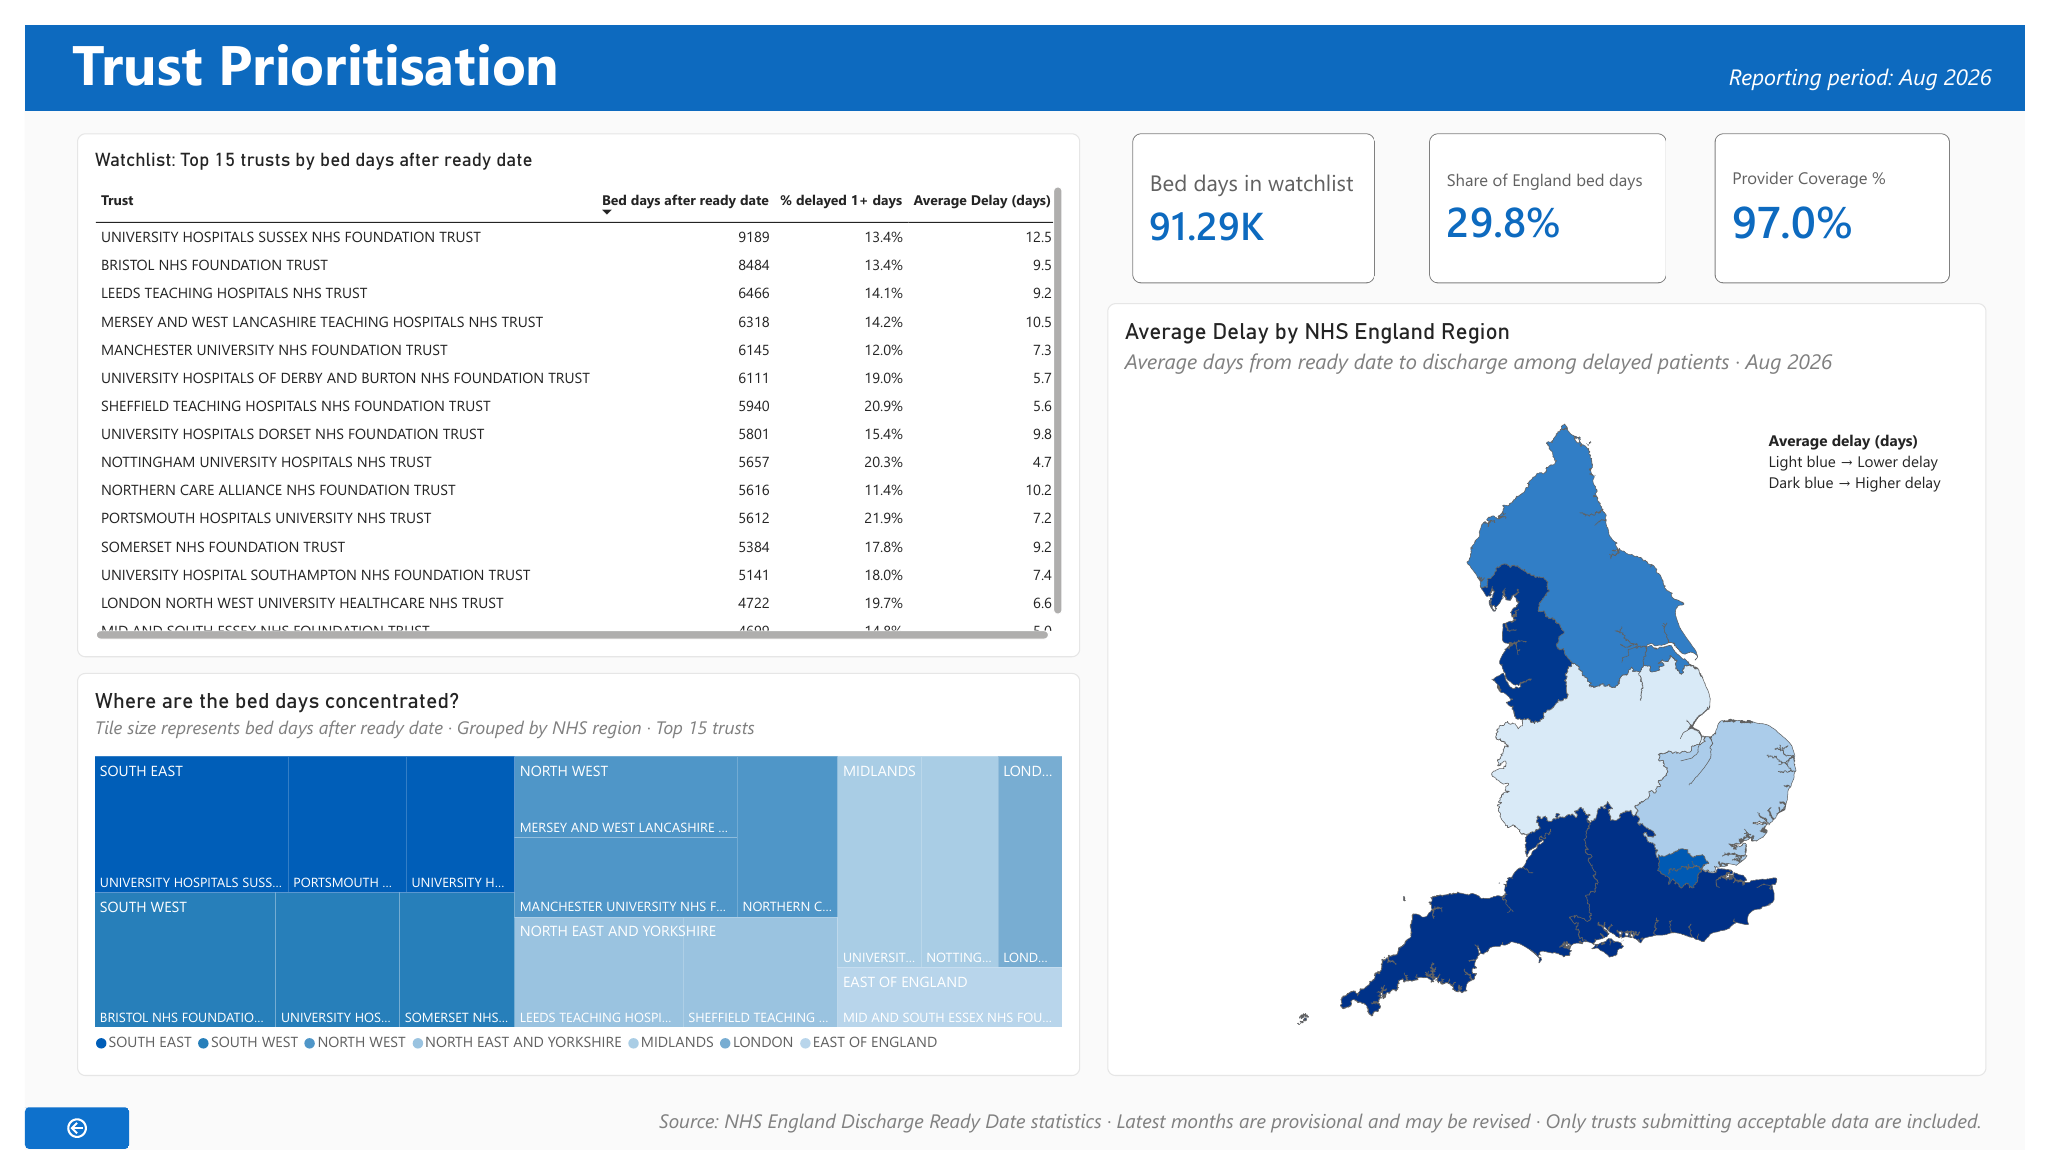

What the dashboard file says about the page in this screenshot:
{"tool":"powerbi","page":{"name":"Page 2","canvas":[1920,1080],"ordinal":1},"visuals":[{"type":"textbox","box":[0,0,1920,82.5],"z":0},{"type":"tableEx","title":"Watchlist: Top 15 trusts by bed days after ready date","fields":{"Values":["NHS Data.Organisation Name","Calendar.Trust Bed Days","Calendar.Trust % Delayed","Calendar.Trust Average Delay Days"]},"box":[50,104.3,963,502.2],"z":1000},{"type":"actionButton","box":[0,1039.1,100,40],"z":2000},{"type":"treemap","title":"Where are the bed days concentrated?","fields":{"Details":["NHS Data.Organisation Name"],"Group":["NHS Data.Region (of Provider)"],"Values":["Calendar.Trust Bed Days"]},"box":[50,621.7,963,387],"z":3000},{"type":"shapeMap","title":"Average Delay by NHS England Region","fields":{"Category":["NHS Data.Organisation Name"],"Value":["Calendar.Regional Avg Delay Days"]},"box":[1039.1,267.4,843.5,741.3],"z":4000},{"type":"textbox","box":[1434.8,17.4,419.6,65.2],"z":5000},{"type":"textbox","box":[1673.9,389.1,173.9,150],"z":6000},{"type":"textbox","box":[158.7,1039.1,1760.9,39.1],"z":7000},{"type":"cardVisual","fields":{"Data":["Calendar.Watchlist Bed Days"]},"box":[1063,104.3,232.6,143.5],"z":8000},{"type":"cardVisual","fields":{"Data":["Calendar.Watchlist Share of England"]},"box":[1347.8,104.3,228.3,143.5],"z":9000},{"type":"cardVisual","fields":{"Data":["Calendar.Provider Coverage %"]},"box":[1621.7,104.3,226.1,143.5],"z":10000}]}

Visuals, with their boxes in screenshot pixels (x1, y1, x2, y2), scaled from the page's 1920x1080 canvas onto the 2050x1175 screenshot:
textbox: pyautogui.locateOnScreen(0, 0, 2049, 90)
"Watchlist: Top 15 trusts by bed days after ready date" tableEx: pyautogui.locateOnScreen(53, 113, 1082, 660)
actionButton: pyautogui.locateOnScreen(0, 1131, 107, 1174)
"Where are the bed days concentrated?" treemap: pyautogui.locateOnScreen(53, 676, 1082, 1097)
"Average Delay by NHS England Region" shapeMap: pyautogui.locateOnScreen(1109, 291, 2010, 1097)
textbox: pyautogui.locateOnScreen(1532, 19, 1980, 90)
textbox: pyautogui.locateOnScreen(1787, 423, 1973, 587)
textbox: pyautogui.locateOnScreen(169, 1131, 2049, 1173)
cardVisual - Calendar.Watchlist Bed Days: pyautogui.locateOnScreen(1135, 113, 1383, 270)
cardVisual - Calendar.Watchlist Share of England: pyautogui.locateOnScreen(1439, 113, 1683, 270)
cardVisual - Calendar.Provider Coverage %: pyautogui.locateOnScreen(1732, 113, 1973, 270)
